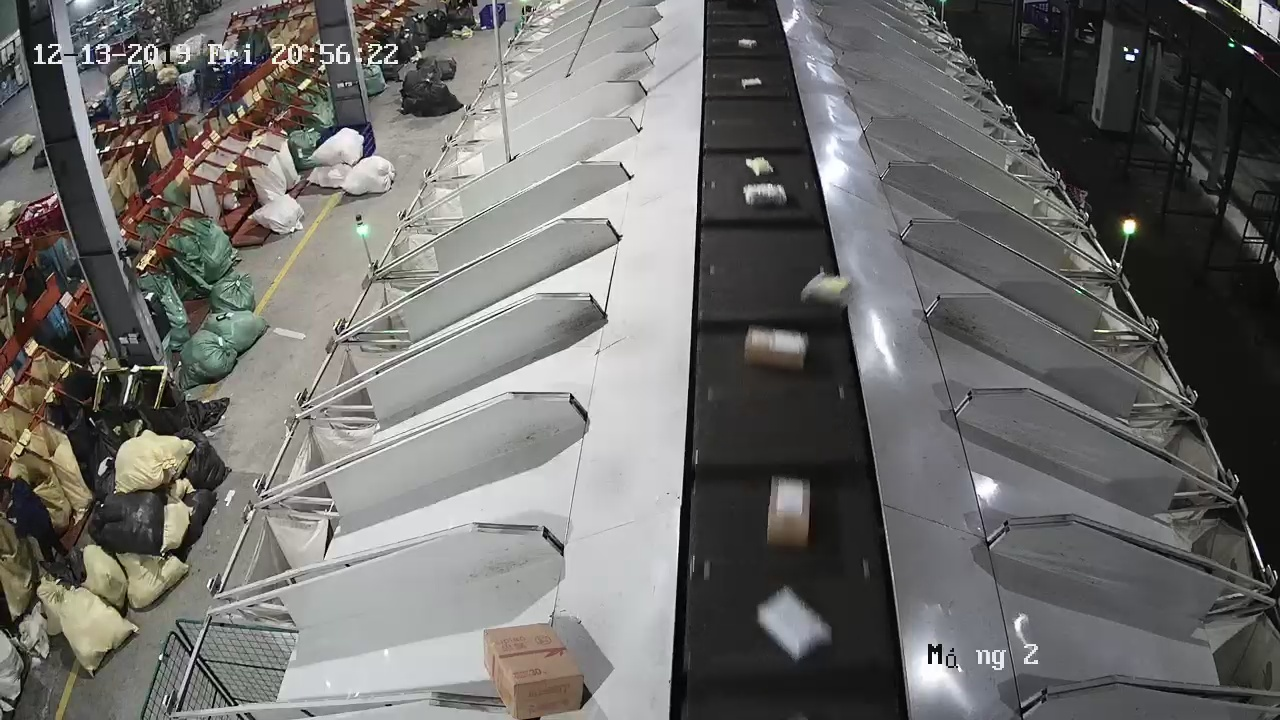parcel: (799, 270, 854, 309)
